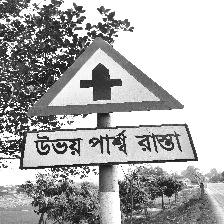Crossroad: (24, 37, 194, 170)
